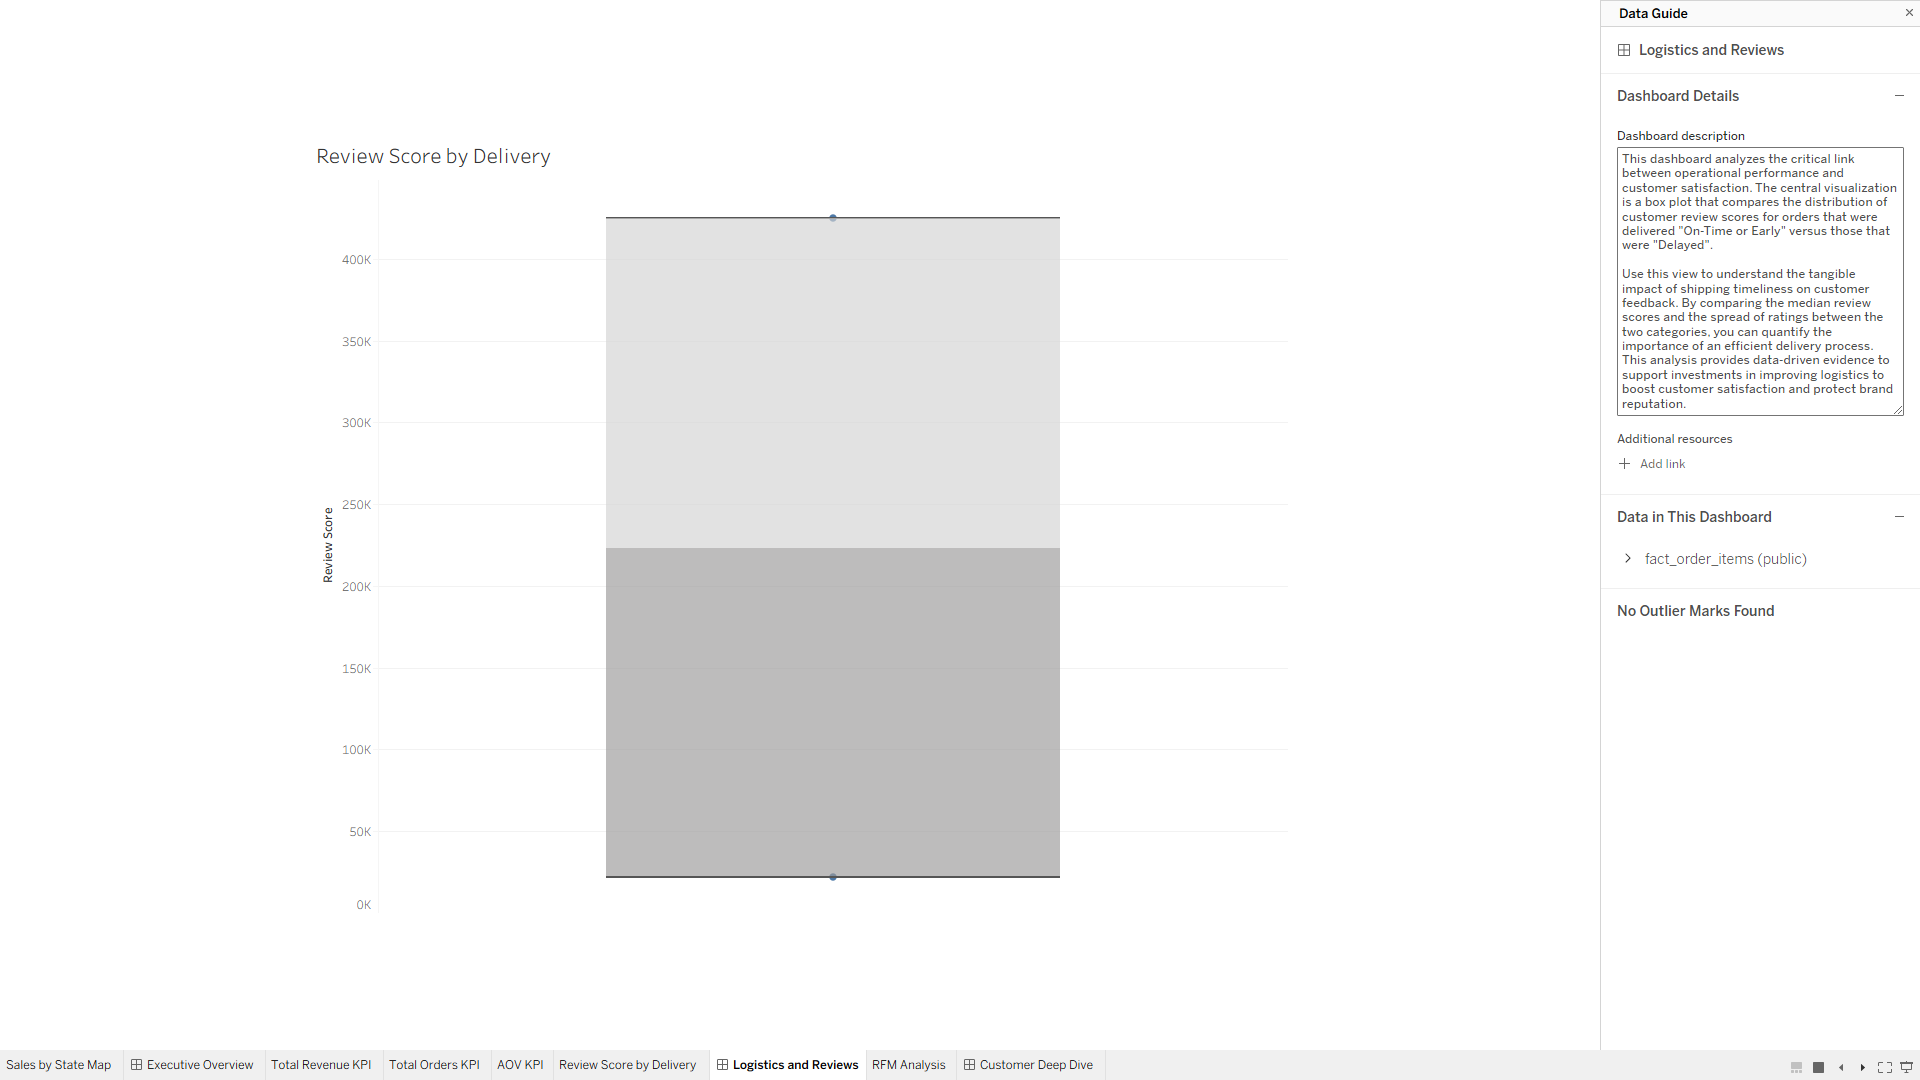

This screenshot's page, from the dashboard's own definition file:
{"tool":"tableau","page":{"name":"Logistics and Reviews","canvas":[1000,800],"ordinal":2},"visuals":[{"type":"worksheet","title":"Review Score by Delivery","mark":"Circle","rows":["review_score"],"box":[8,8,984,784]}]}

Visuals, with their boxes on the page's 1000x800 design canvas (x1, y1, x2, y2). These are canvas units, not pixel positions in the 1920x1080 screenshot, which may show the page scaled, cropped or inside an application window:
"Review Score by Delivery" worksheet (Circle marks): bbox(8, 8, 992, 792)
